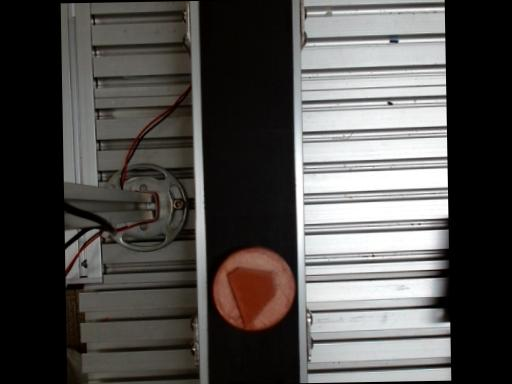Brown_Waper: (213, 247, 295, 329)
Not_Square: (226, 265, 276, 329)
